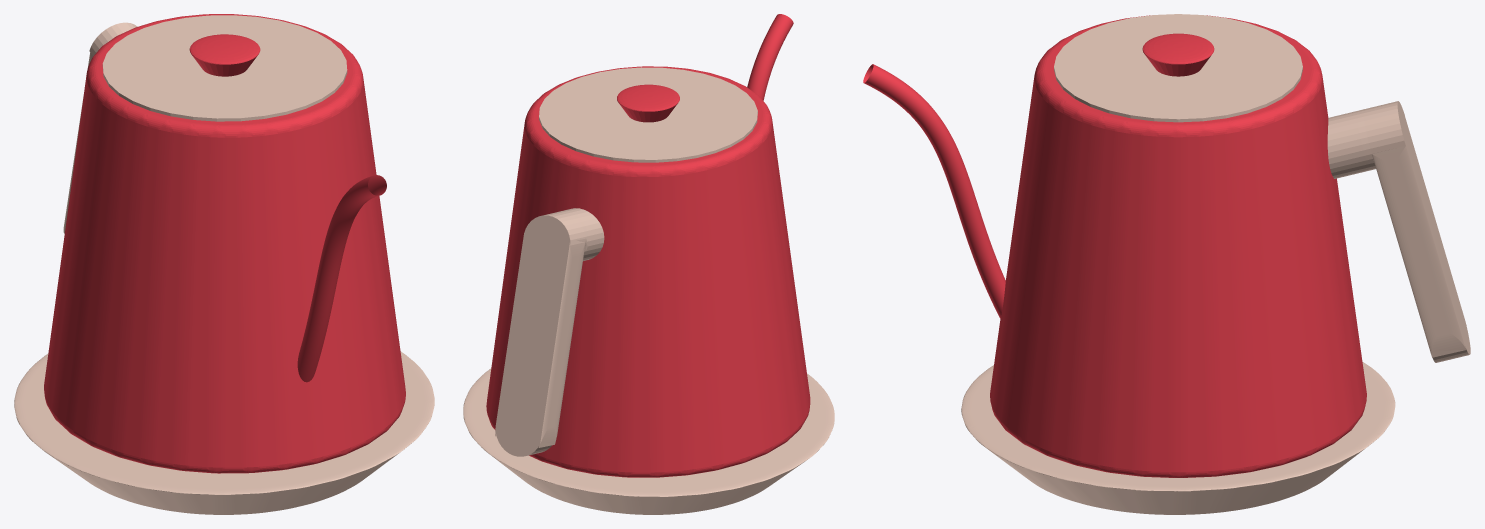
Rendered from ketoru.fbx.
3 views of the same model, side by side, from view 1: azimuth 30°, elevation 25°; view 2: azimuth 150°, elevation 25°; view 3: azimuth 270°, elevation 25° (orthographic). The views are drawn at different scales.
Parts seen in each view (by area): view 1: Cylinder, Cylinder.003, Cylinder.002, BezierCurve, Cylinder.001; view 2: Cylinder, Cylinder.003, Cylinder.001, Cylinder.002, BezierCurve; view 3: Cylinder, Cylinder.003, Cylinder.002, Cylinder.001, BezierCurve.
Part boxes in pixels (x1,y1,x2,y2): Cylinder: (44,14,405,473); Cylinder.003: (102,15,347,121); Cylinder.002: (14,351,434,514); BezierCurve: (297,175,386,382); Cylinder.001: (63,22,137,233); Cylinder: (486,66,810,477); Cylinder.003: (539,67,757,162); Cylinder.001: (495,208,604,456); Cylinder.002: (463,368,834,514); BezierCurve: (747,14,793,100); Cylinder: (990,15,1366,477); Cylinder.003: (1054,14,1302,122); Cylinder.002: (961,361,1395,514); Cylinder.001: (1327,101,1470,362); BezierCurve: (863,64,1005,318).
Size of the model in its own units: 2.33 by 2.49 by 3.35.
